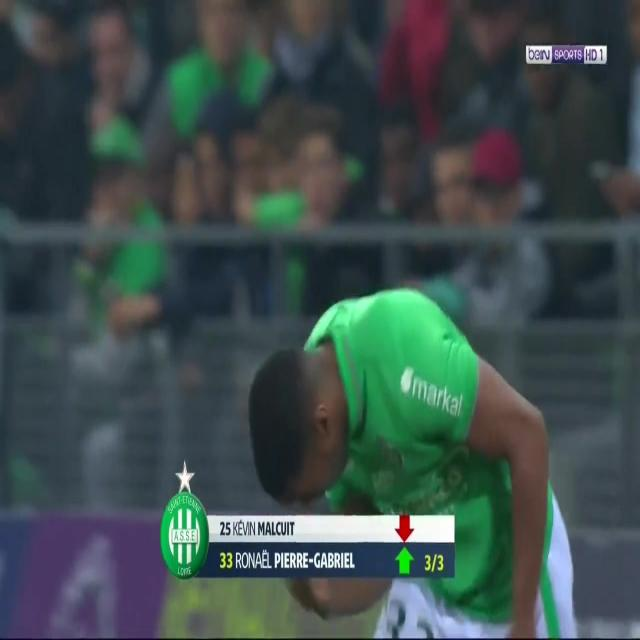Player: (243, 281, 575, 640)
